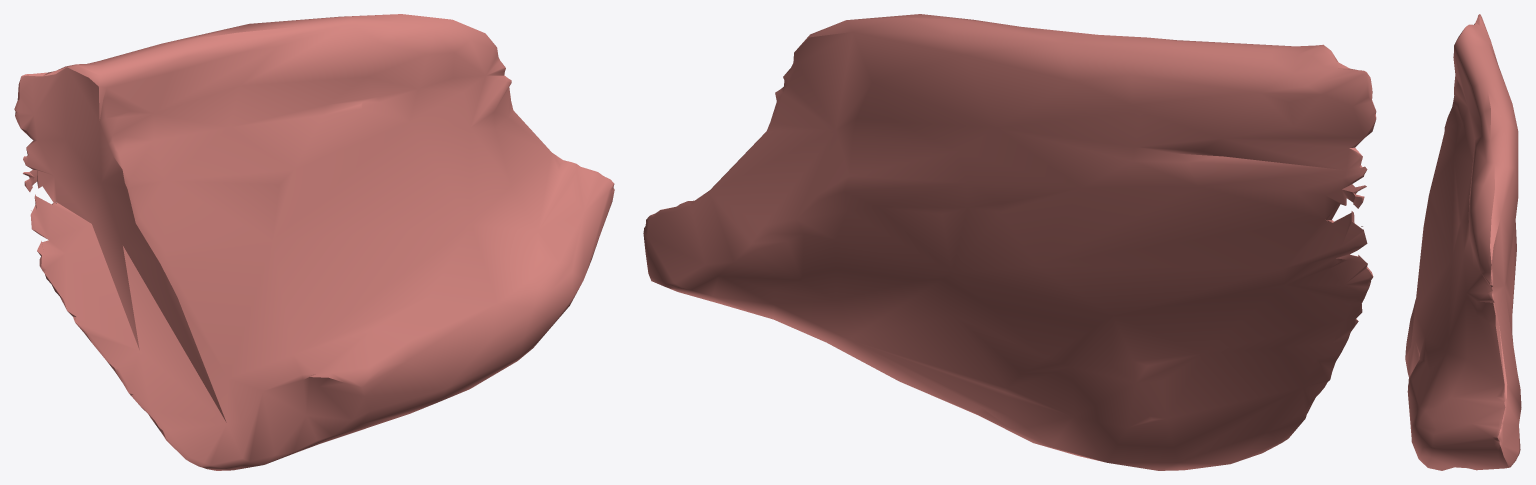
File: fma22338_fj1432.glb
3 views of the same model, side by side, from view 1: azimuth 30°, elevation 25°; view 2: azimuth 150°, elevation 25°; view 3: azimuth 270°, elevation 25° (orthographic). The views are drawn at different scales.
Parts seen in each view (by area): view 1: FMA22338_FJ1432; view 2: FMA22338_FJ1432; view 3: FMA22338_FJ1432.
Boxes of the visible parts, x1=… form: FMA22338_FJ1432: x1=14, y1=14, x2=614, y2=470; FMA22338_FJ1432: x1=643, y1=14, x2=1376, y2=470; FMA22338_FJ1432: x1=1405, y1=14, x2=1521, y2=470.
Size of the model in its own units: 0.0706 by 0.0462 by 0.0152.
